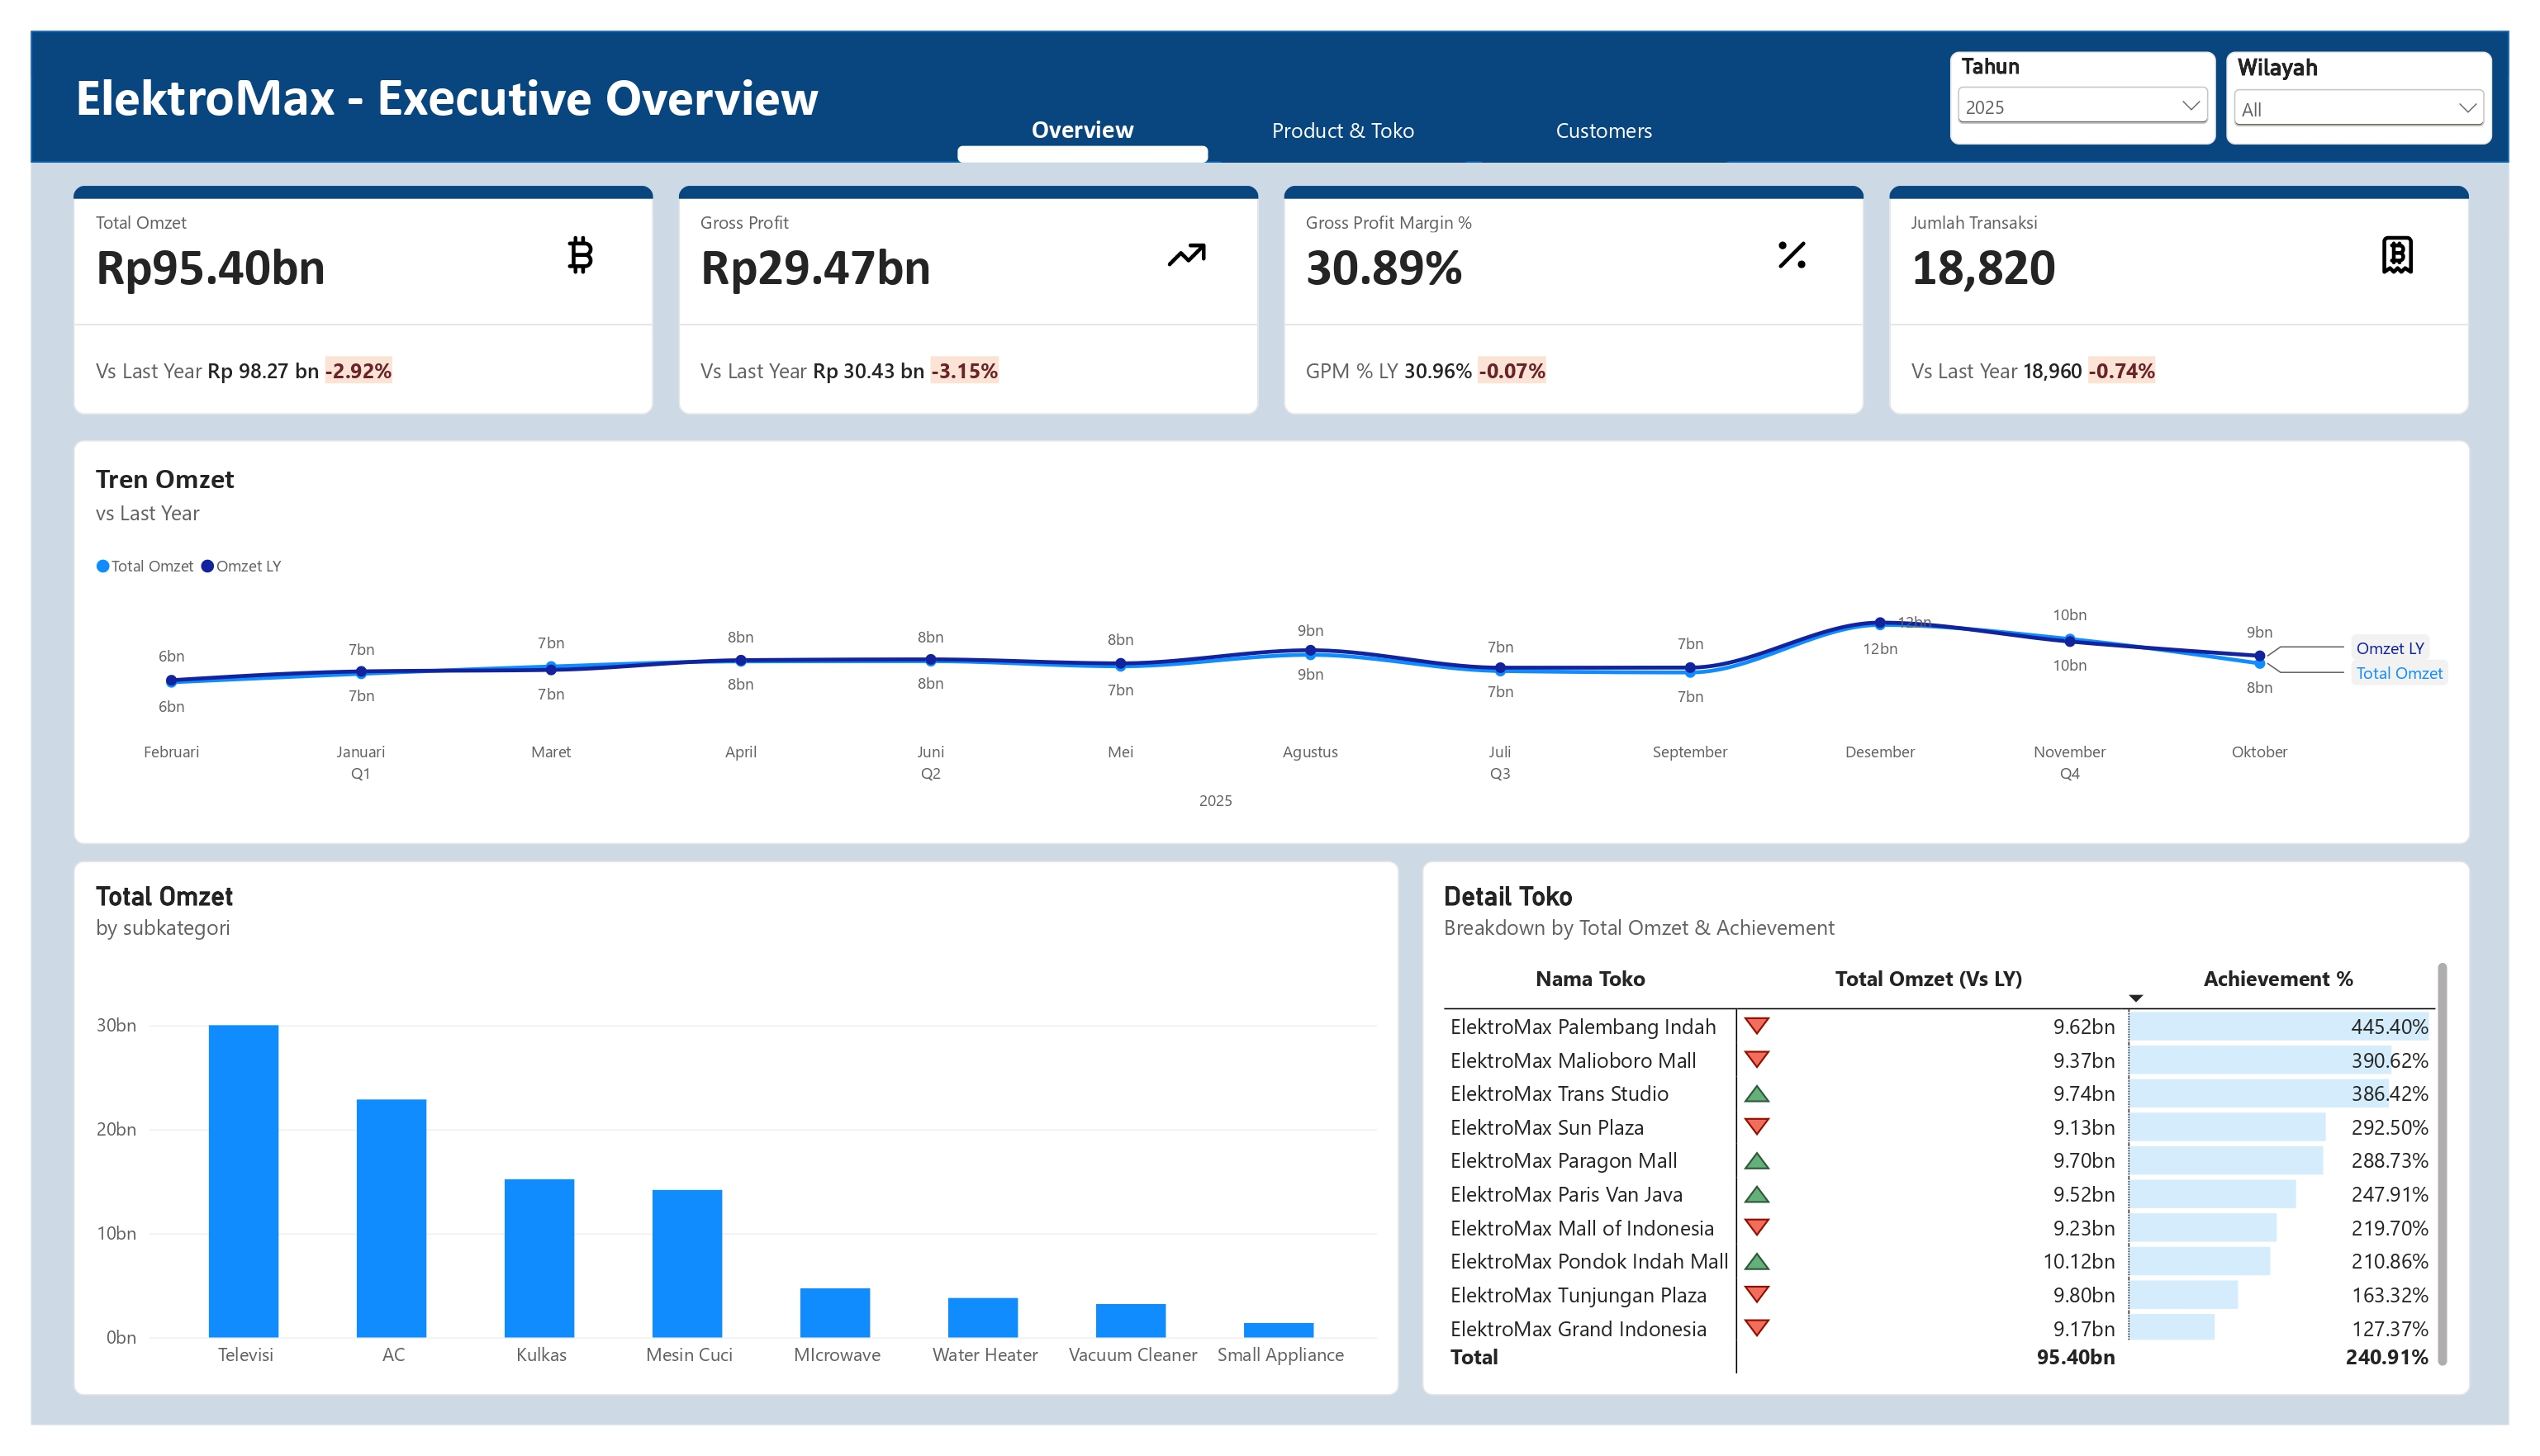

The dashboard page shown, as its layout file describes it:
{"tool":"powerbi","page":{"name":"Overview","canvas":[1920,1080],"ordinal":0},"visuals":[{"type":"lineChart","title":"Tren Omzet","fields":{"Category":["DIM_WAKTU.tahun Hierarchy.tahun","DIM_WAKTU.tahun Hierarchy.kuartal","DIM_WAKTU.tahun Hierarchy.bulan","DIM_WAKTU.tahun Hierarchy.tanggal"],"Y":["_MEASURE.Total Omzet","_MEASURE.Omzet LY"]},"box":[33.3,316.7,1856.7,313.3],"z":0},{"type":"columnChart","fields":{"Category":["DIM_PRODUK.subkategori_clear"],"Y":["_MEASURE.Total Omzet"]},"box":[33.3,643.3,1026.7,413.3],"z":1000},{"type":"shape","box":[0,0,1920,102],"z":2000},{"type":"slicer","title":"Tahun","fields":{"Values":["DIM_WAKTU.tahun"]},"box":[1486.8,16.1,206,72],"z":3000},{"type":"slicer","title":"tahun","fields":{"Values":["DIM_TOKO.wilayah"]},"box":[1700.8,16.1,206,72],"z":4000},{"type":"textbox","box":[34,24,624,62],"z":5000},{"type":"cardVisual","fields":{"Data":["_MEASURE.Total Omzet","_MEASURE.Gross Profit","_MEASURE.GPM %","_MEASURE.Jumlah Transaksi"]},"box":[33.3,120,1856.7,176.7],"z":6000},{"type":"group","id":"g1","title":"Page Navigator","box":[718.3,51.7,600,50],"z":7000},{"type":"pageNavigator","box":[718.3,51.7,600,50],"z":8000,"group":"g1"},{"type":"pivotTable","title":"Detail Toko","fields":{"Rows":["DIM_TOKO.nama_toko"],"Values":["_MEASURE.Total Omzet","_MEASURE.Achievement %"]},"box":[1078.3,643.3,811.7,413.3],"z":8000},{"type":"pageNavigator","box":[718.3,88.4,600,13.3],"z":9000,"group":"g1"}]}

Visuals, with their boxes on the page's 1920x1080 design canvas (x1, y1, x2, y2). These are canvas units, not pixel positions in the 2540x1456 screenshot, which may show the page scaled, cropped or inside an application window:
"Tren Omzet" lineChart: bbox=(33, 317, 1890, 630)
columnChart - DIM_PRODUK.subkategori_clear x _MEASURE.Total Omzet: bbox=(33, 643, 1060, 1057)
shape: bbox=(0, 0, 1920, 102)
"Tahun" slicer: bbox=(1487, 16, 1693, 88)
"tahun" slicer: bbox=(1701, 16, 1907, 88)
textbox: bbox=(34, 24, 658, 86)
cardVisual - _MEASURE.Total Omzet x _MEASURE.Gross Profit: bbox=(33, 120, 1890, 297)
"Page Navigator" group: bbox=(718, 52, 1318, 102)
pageNavigator: bbox=(718, 52, 1318, 102)
"Detail Toko" pivotTable: bbox=(1078, 643, 1890, 1057)
pageNavigator: bbox=(718, 88, 1318, 102)
